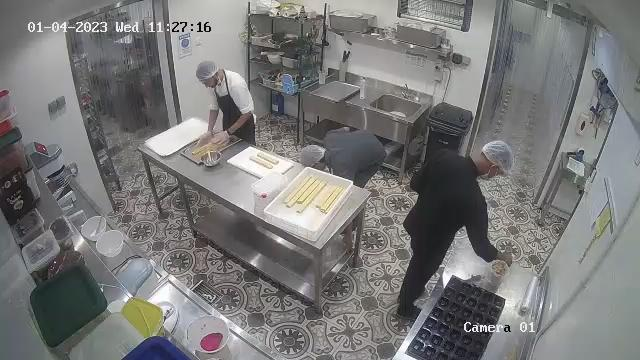no_apron: (212, 70, 252, 144)
